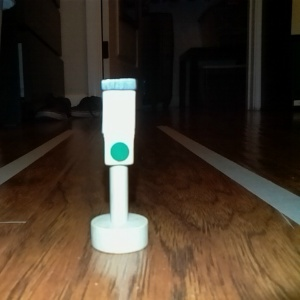traffic light green: (89, 74, 151, 254)
